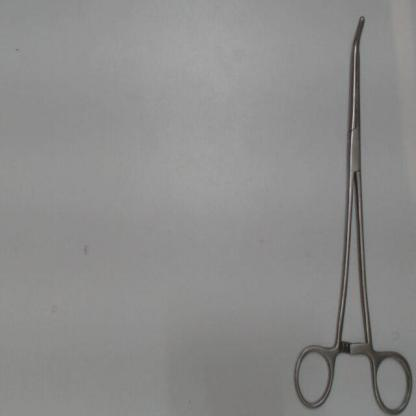Lahey Forceps: (290, 11, 414, 414)
